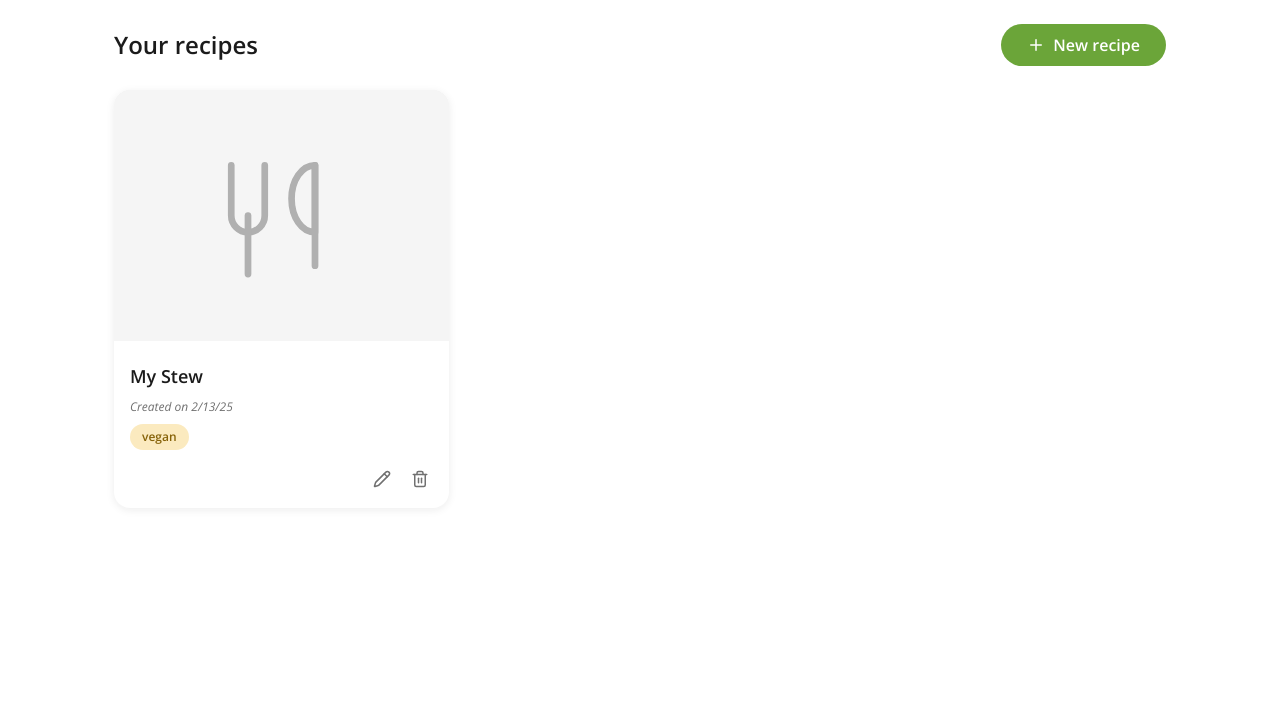
it: Dashboard page › deletes a recipe after confirming
The width and height of the screenshot is (1280, 720).
Expected: the heading "My Stew" is shown, [130,364,203,388]
What coordinates should you click on to do the following:
click the button named "Delete My Stew"
I would click on:
 (420, 479)
Its box is [407,466,433,492].
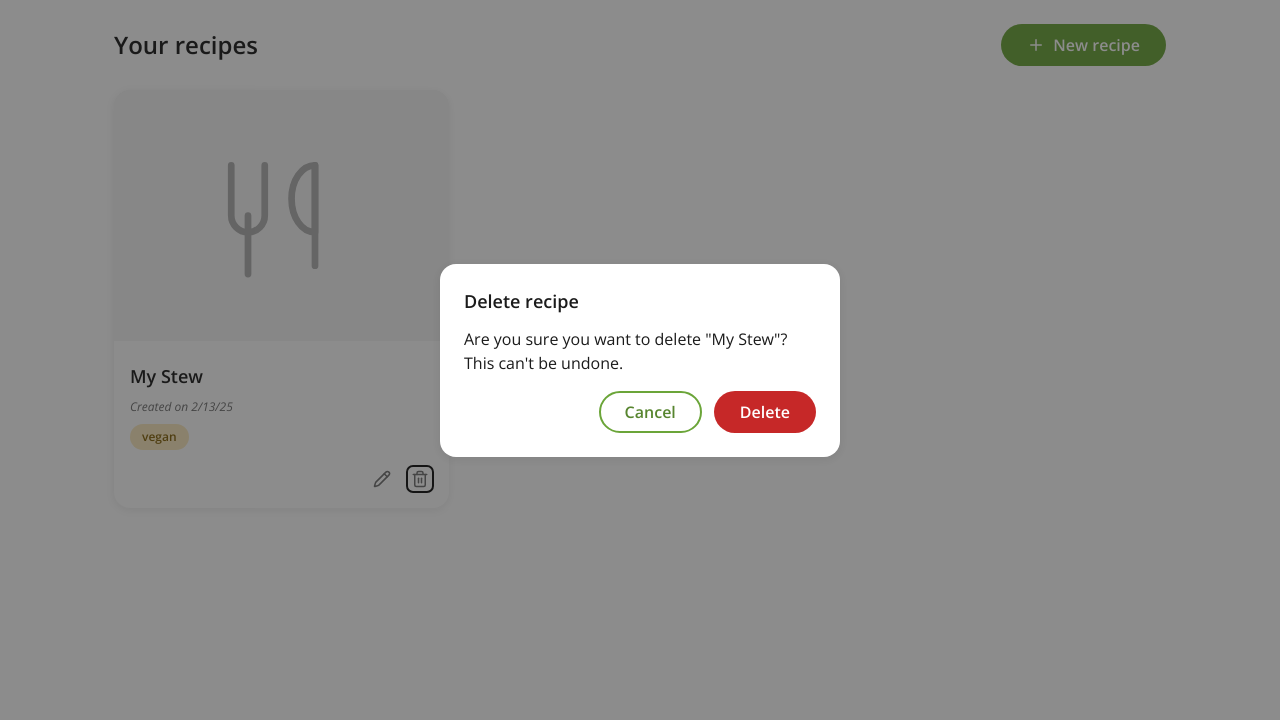
What coordinates should you click on to do the following:
click the button "Delete"
I would click on:
 (765, 412)
Its box is [714,390,816,432].
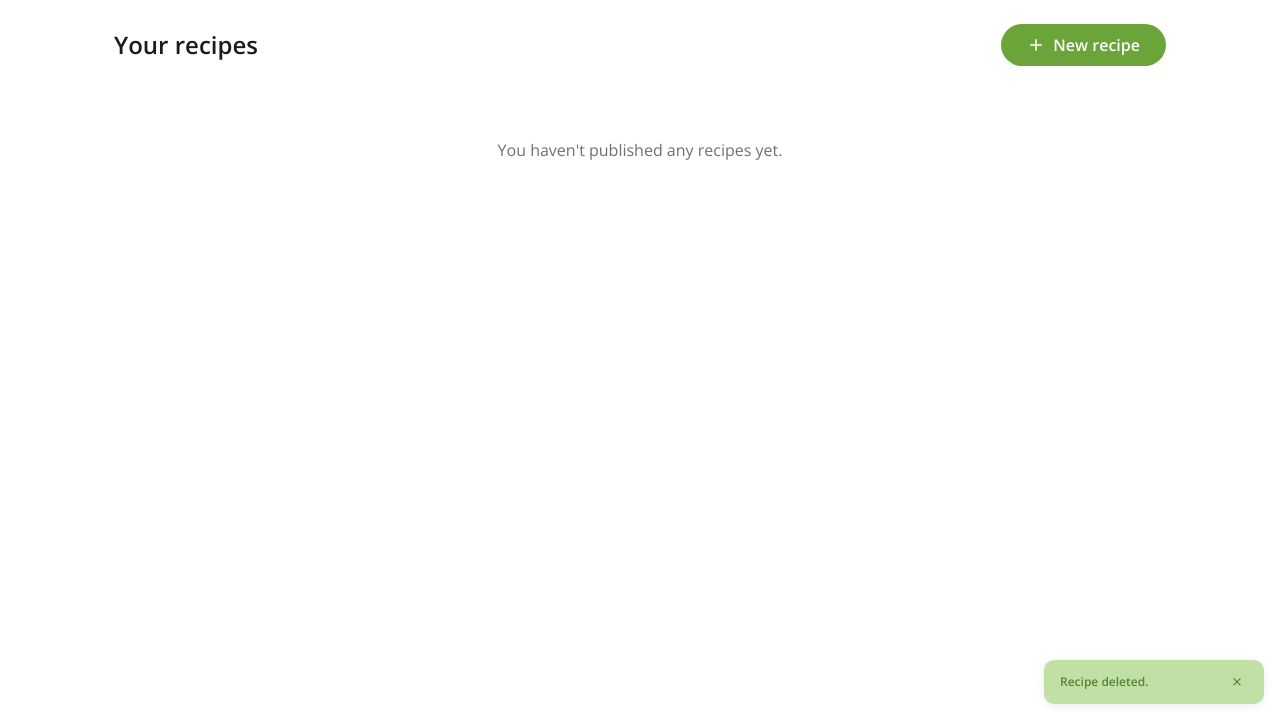
Expected: the text "Recipe deleted." is shown, [1060,673,1148,691]
Expected: the link "My Stew" is gone
